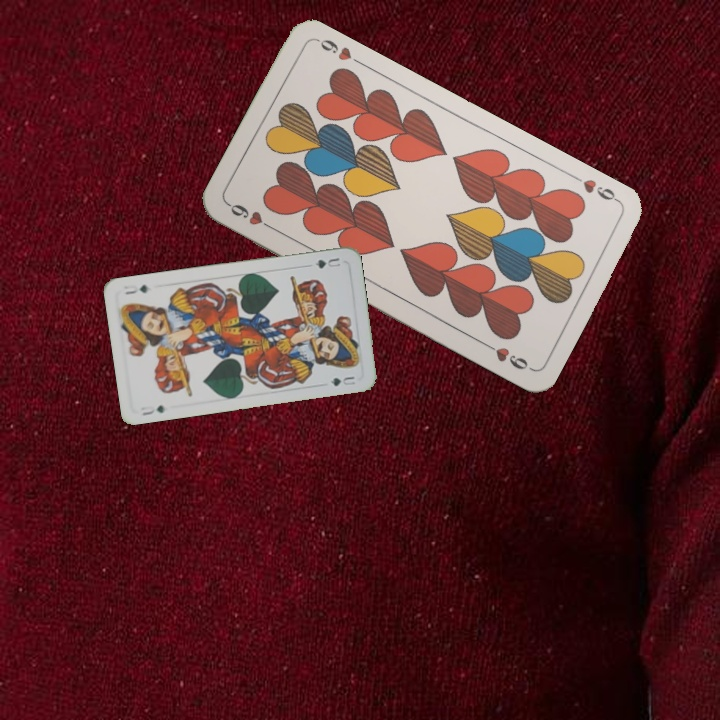GU: (311, 254, 343, 271), (138, 401, 167, 418)
H9: (224, 199, 279, 234), (579, 175, 623, 206)
